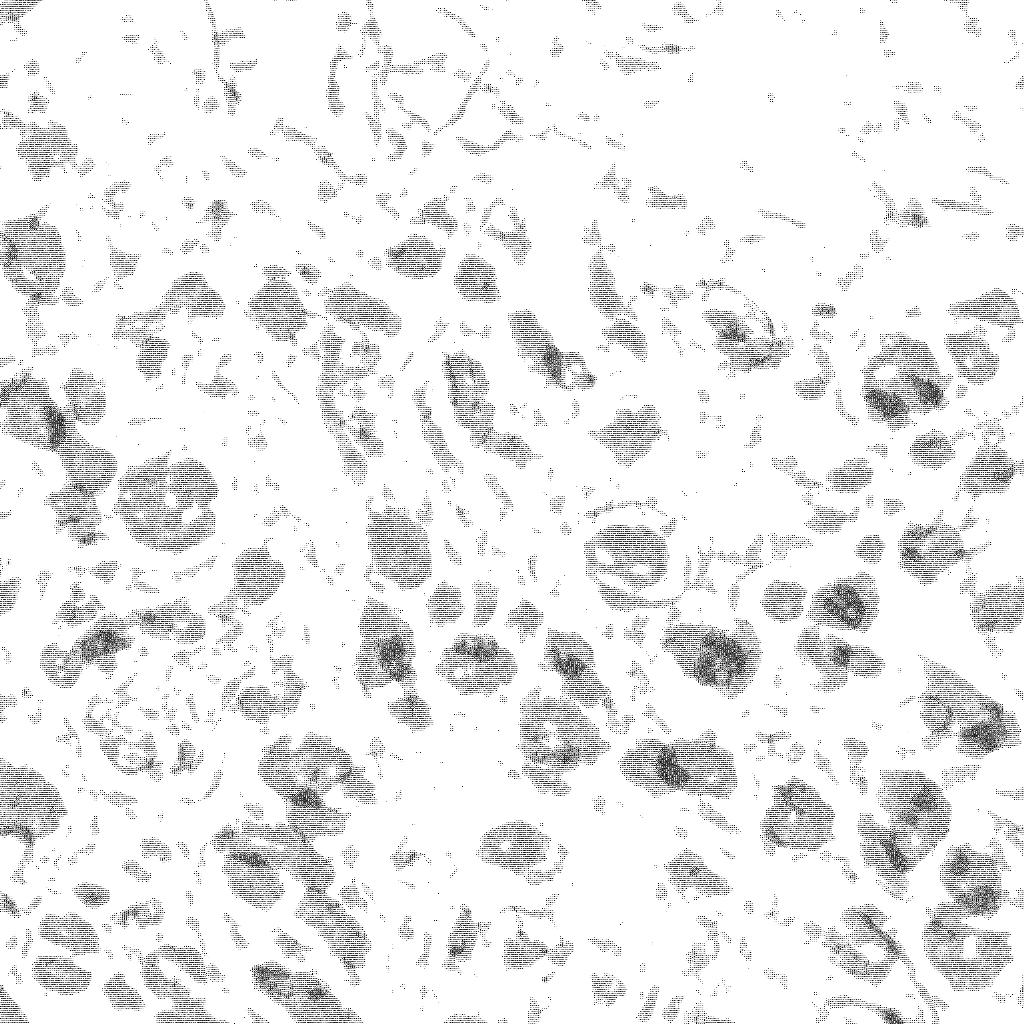axone: (915, 647, 1024, 765), (437, 349, 541, 470), (111, 451, 227, 556), (511, 684, 610, 802), (252, 730, 383, 812), (859, 327, 949, 434), (616, 727, 745, 801), (656, 616, 767, 701), (211, 817, 306, 915), (35, 604, 137, 694), (919, 907, 1018, 997), (341, 591, 426, 695), (698, 304, 798, 385), (246, 956, 364, 1024), (537, 625, 627, 712), (783, 622, 890, 695), (1, 206, 71, 315), (752, 775, 844, 857), (357, 501, 439, 592), (579, 523, 678, 592), (936, 839, 1014, 923), (315, 274, 409, 343), (1, 755, 70, 848), (243, 263, 313, 349), (894, 513, 973, 588), (589, 404, 672, 470), (806, 569, 886, 636), (937, 326, 1010, 393), (474, 819, 556, 876), (940, 282, 1024, 336), (955, 438, 1024, 502), (227, 542, 291, 610), (380, 229, 447, 286), (449, 247, 511, 308), (33, 909, 106, 958), (57, 364, 111, 430), (25, 951, 99, 999)
